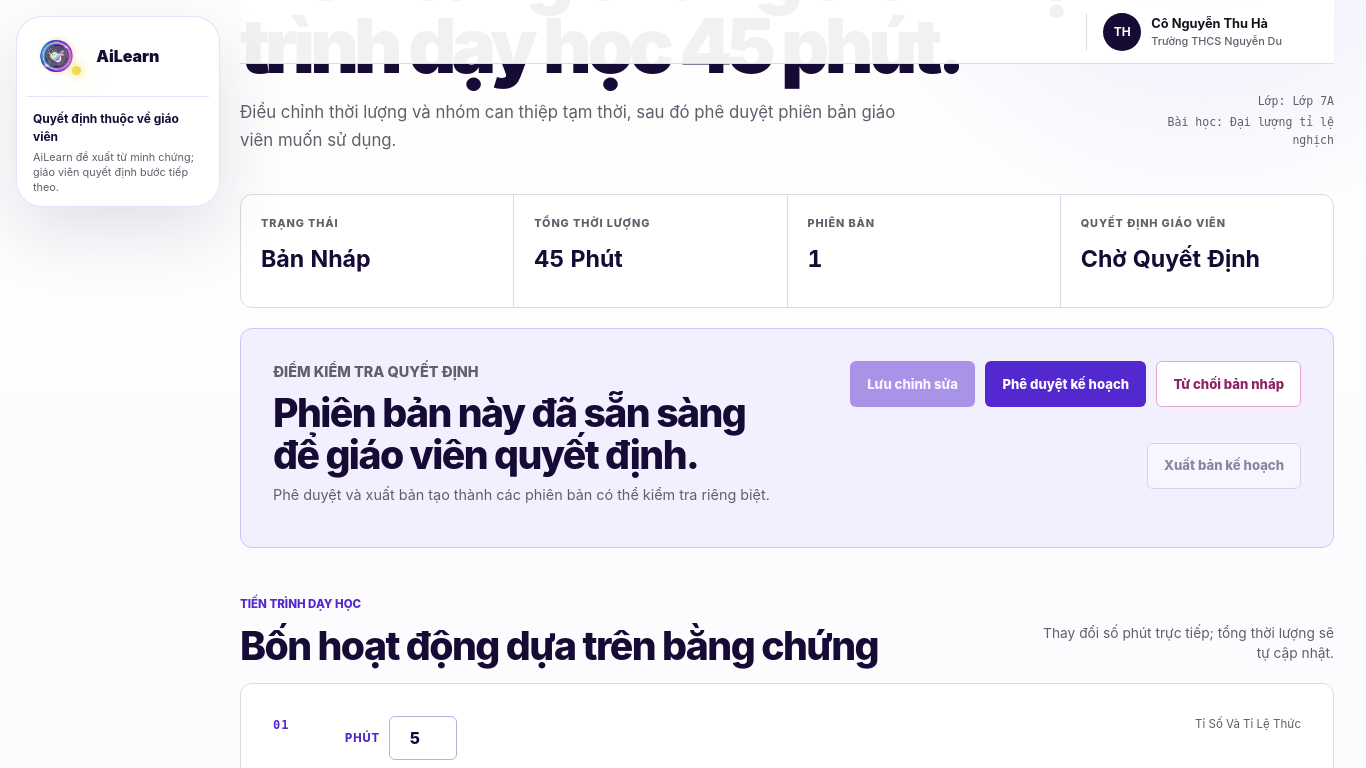
Test: TeacherWorkspace › enforces approval before one-time publication
The image size is (1366, 768).
(page scrolled)
Expected: the button "Lưu chỉnh sửa" is disabled, [850, 362, 975, 408]
Expected: the button "Xuất bản kế hoạch" is disabled, [1147, 443, 1301, 489]
Click the button "Phê duyệt kế hoạch": (1066, 384) [986, 362, 1146, 408]
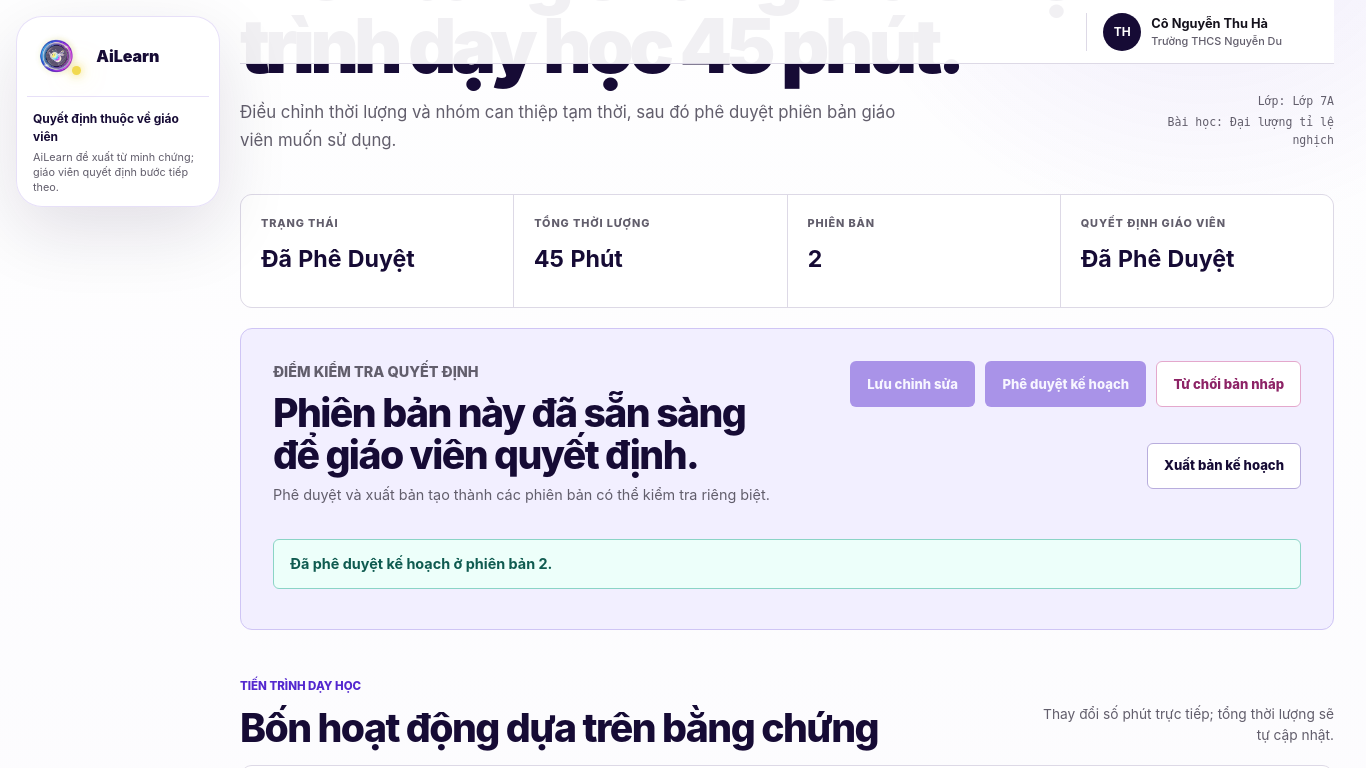
Expected: the message reads "Đã phê duyệt kế hoạch ở phiên bản 2.", [290, 555, 552, 572]
Expected: the button "Phê duyệt kế hoạch" is disabled, [986, 362, 1146, 408]
Expected: the button "Xuất bản kế hoạch" is enabled
Click the button "Xuất bản kế hoạch": (1224, 466) [1147, 443, 1301, 489]
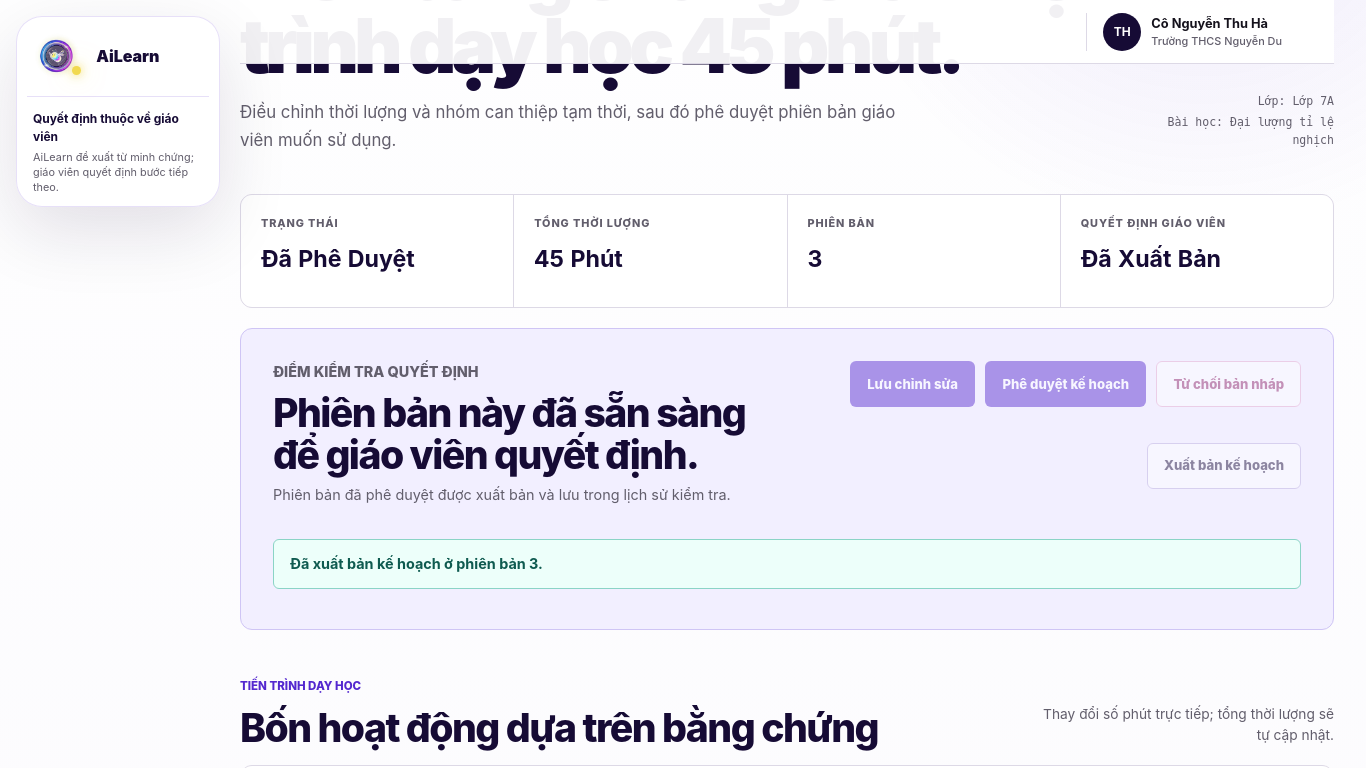
Expected: the message reads "Đã xuất bản kế hoạch ở phiên bản 3.", [290, 555, 543, 572]
Expected: the button "Xuất bản kế hoạch" is disabled, [1147, 443, 1301, 489]
Expected: the button "Từ chối bản nháp" is disabled, [1156, 362, 1301, 408]
